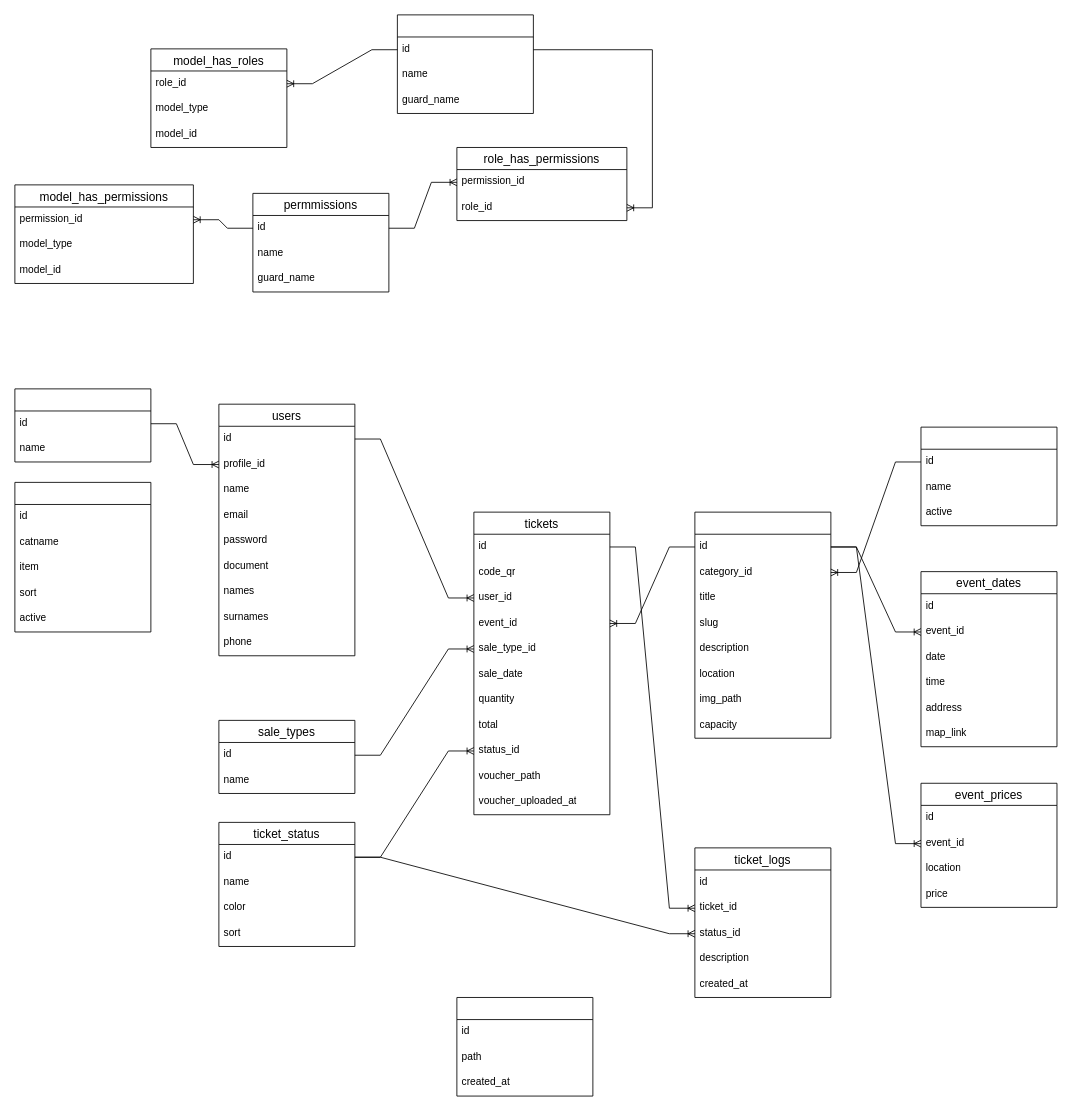
This 1072x1114 diagram has some shape labels left out. Each missing label, with the box of its shape:
catalogues: (14, 482, 151, 632)
categories: (920, 426, 1057, 526)
events: (694, 511, 831, 738)
profile: (14, 388, 151, 462)
roles: (397, 14, 533, 113)
ticket_vouchers: (456, 997, 593, 1096)
